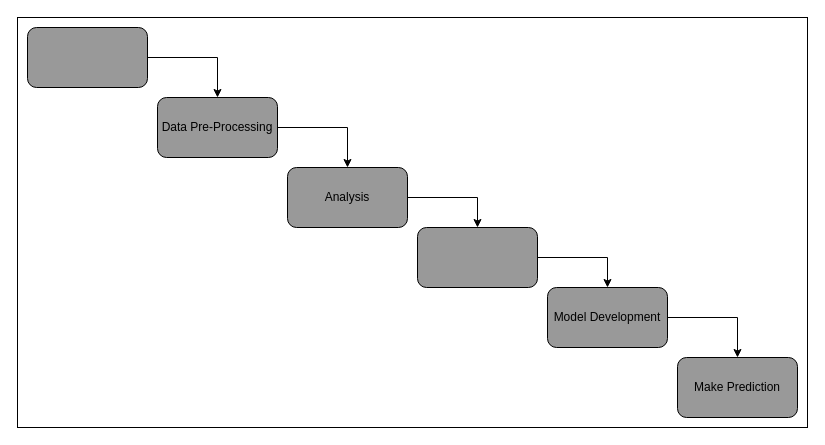
The diagram is 825 pixels wide and 445 high, and some of its shapes have lost their labels. Each missing label, with the box of its shape:
Data Collection: (26, 26, 148, 88)
Feature Selection/Engineering: (416, 226, 538, 288)
